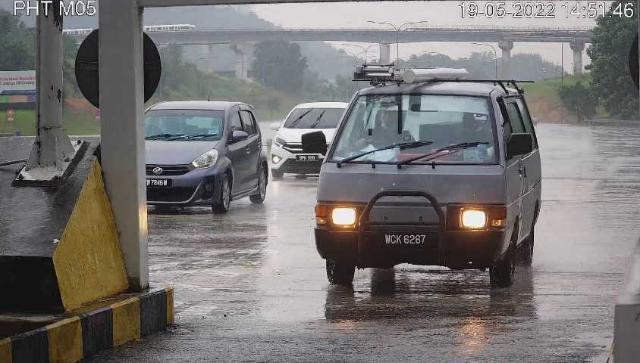License_Plate: (375, 229, 441, 253)
van: (316, 65, 543, 289)
